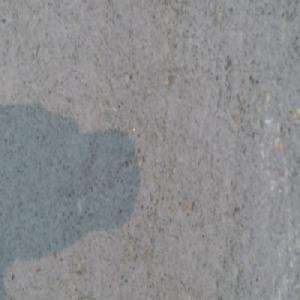Washer: (78, 286, 98, 300)
